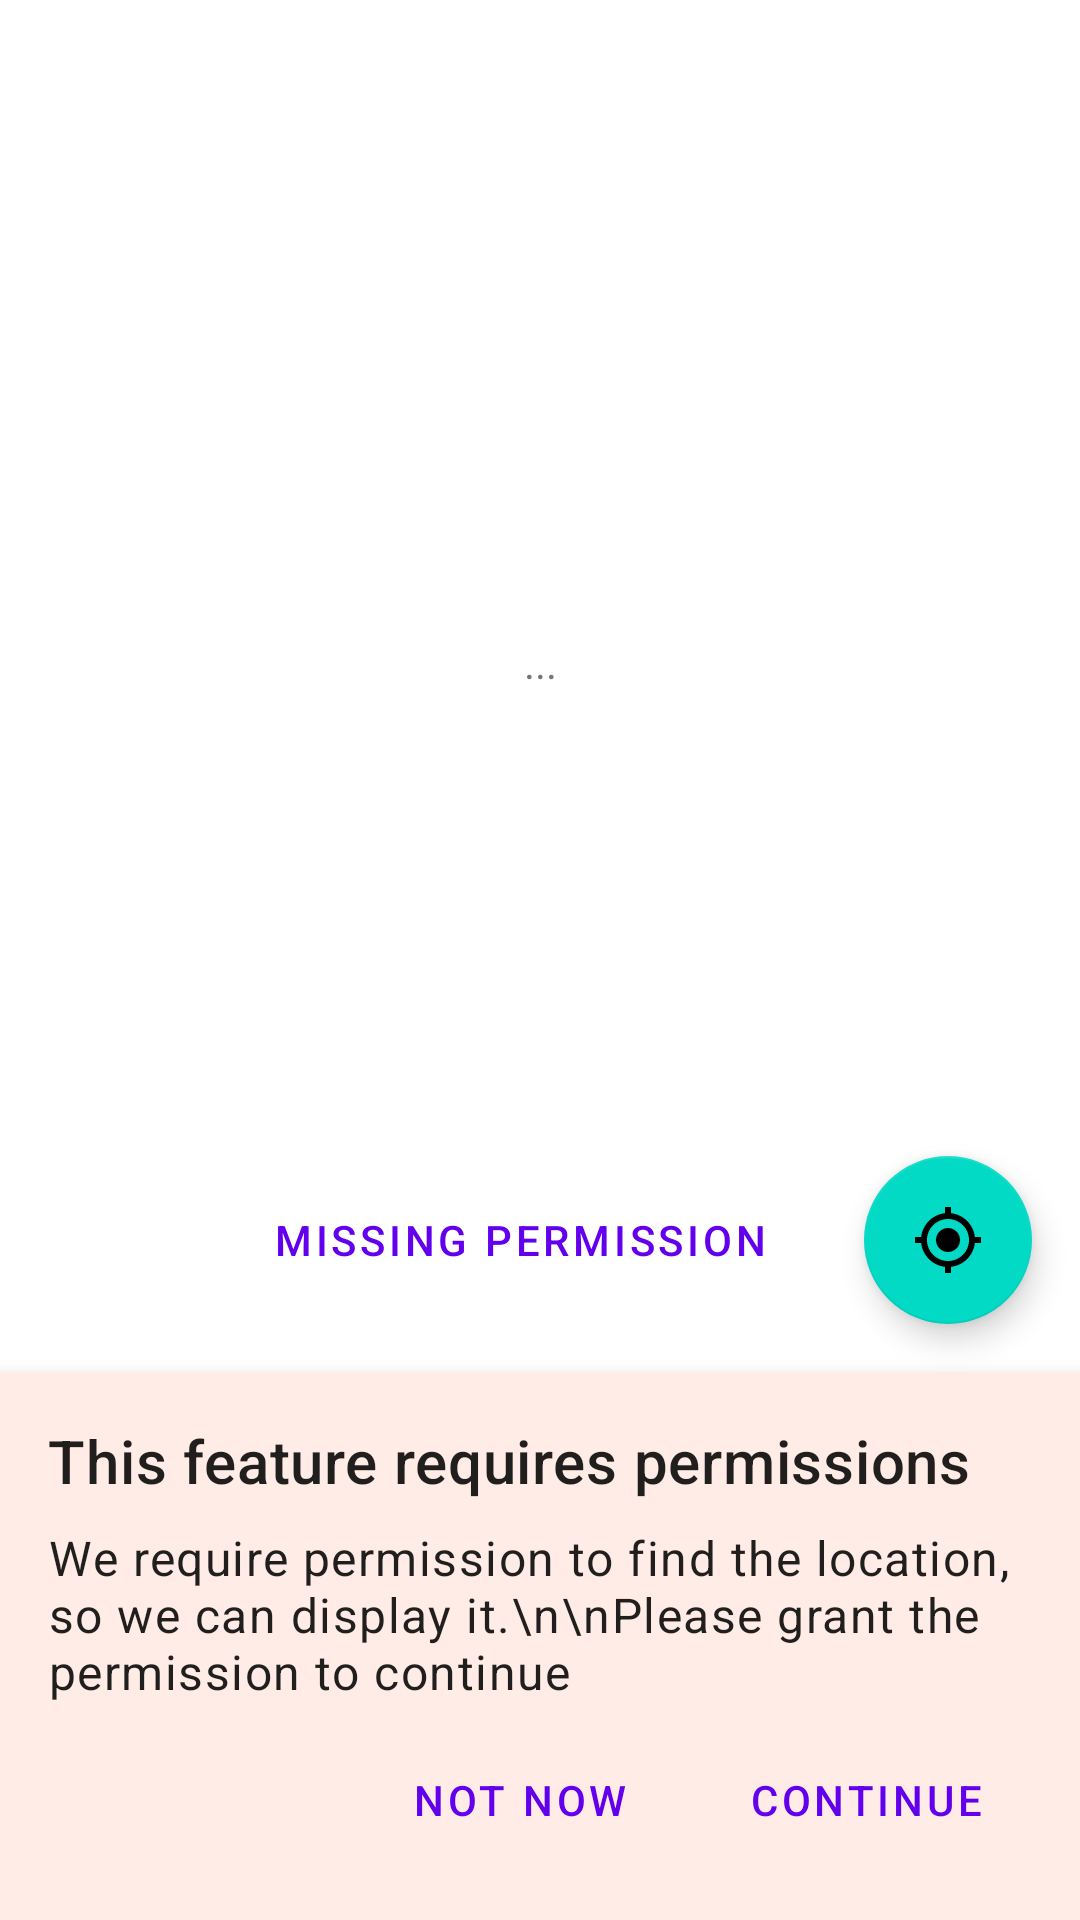

Icon click points for this 1080px×1920px phone screenshot, format (x,y):
location: (948,1240)
